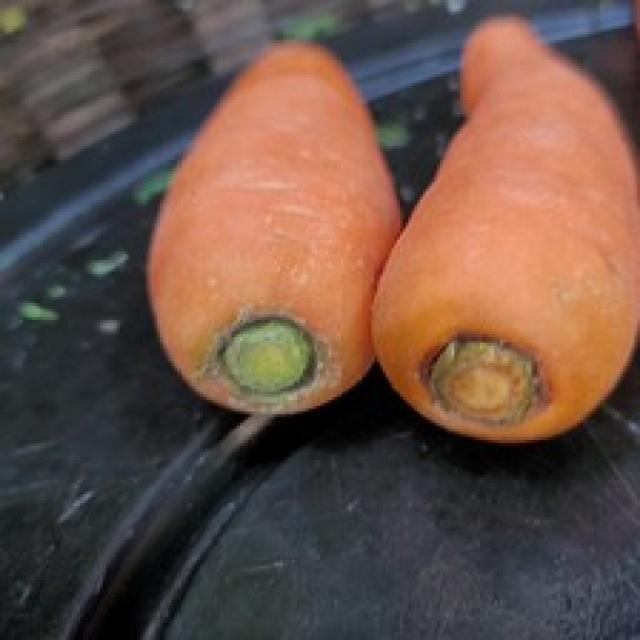carrot: (375, 19, 640, 448), (144, 38, 403, 416)
